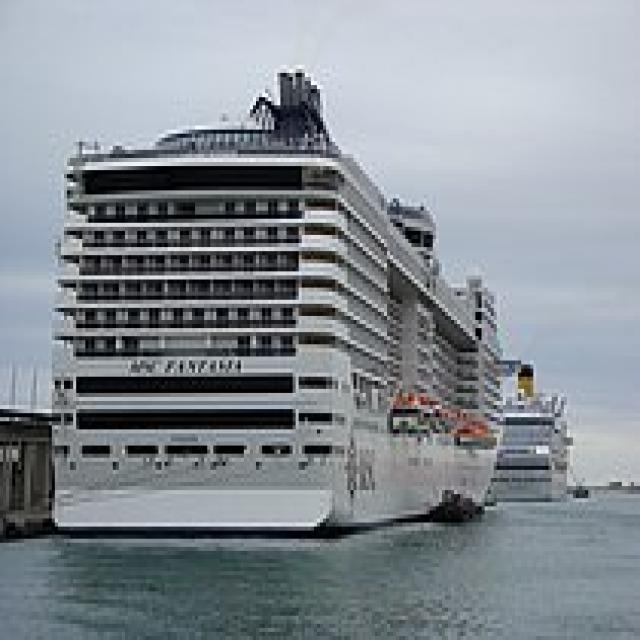Cruise: (43, 61, 521, 538), (478, 352, 573, 502)
